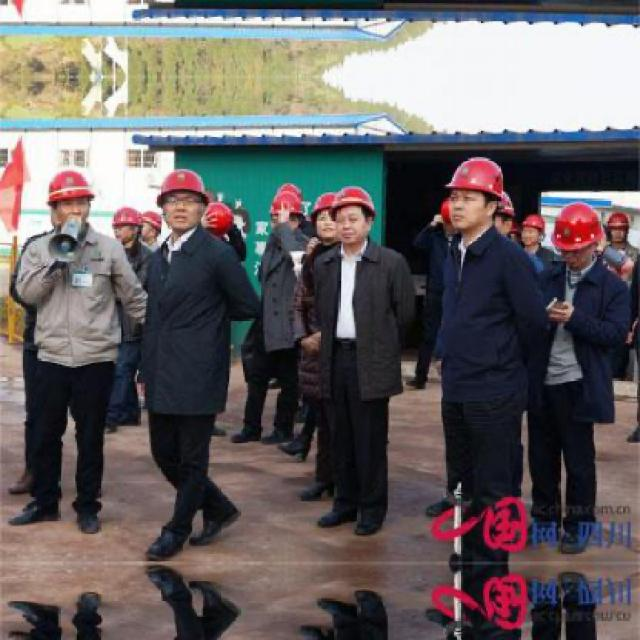helmet: (446, 154, 506, 229), (551, 198, 603, 274), (157, 163, 208, 239), (334, 178, 378, 252), (48, 165, 98, 229), (264, 189, 304, 237), (309, 189, 340, 242), (488, 188, 517, 243), (109, 202, 145, 246), (519, 209, 546, 249), (139, 206, 166, 245), (440, 192, 460, 238), (605, 206, 632, 240)
